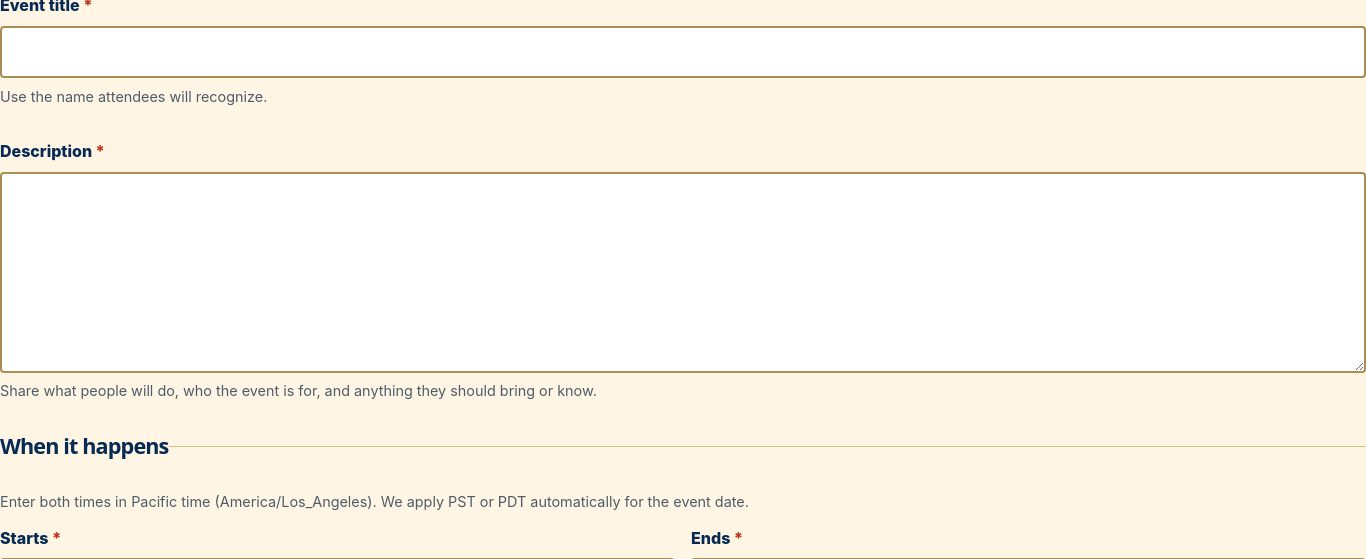
Test: EventForm › submits a one-time event with only the visible event fields
This screenshot has width=1366, height=559.
Type "SacTech Community Demo Night" into the field labelled "Event title *" at (683, 52), box top-left (0, 26), bottom-right (1365, 78)
Type "See project demos from Sacramento developers and meet their creators." into the text box labelled "Description *" at (683, 272), box top-left (0, 172), bottom-right (1365, 372)
(page scrolled)
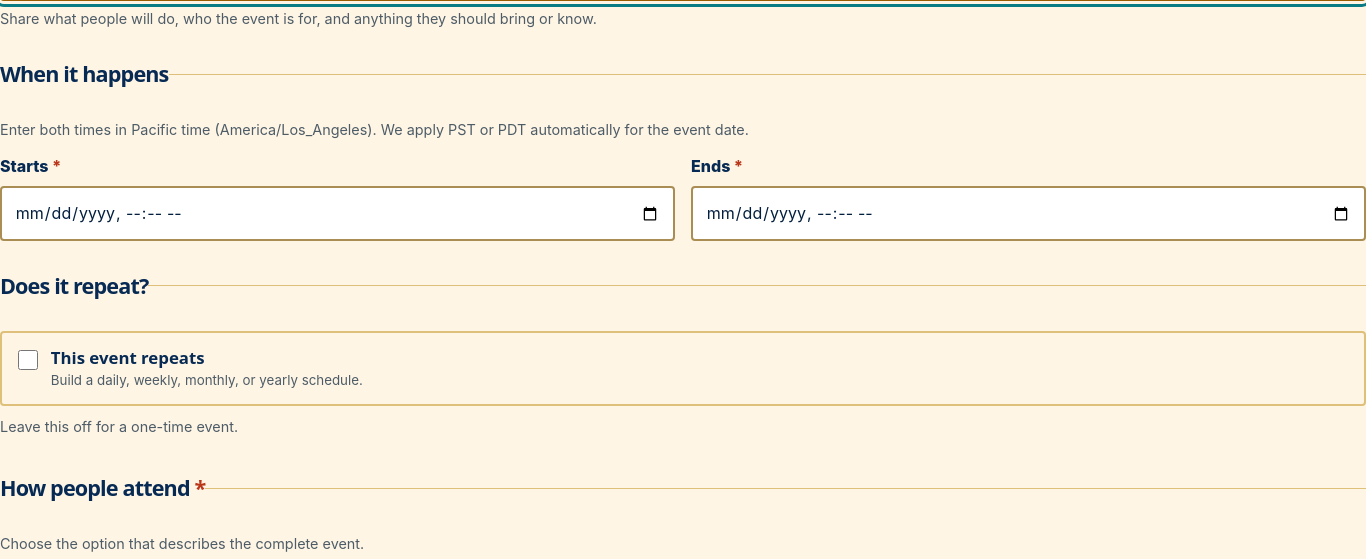
Type "2099-05-19T10:00" into the field labelled "Starts *" at (338, 214), box top-left (0, 186), bottom-right (675, 241)
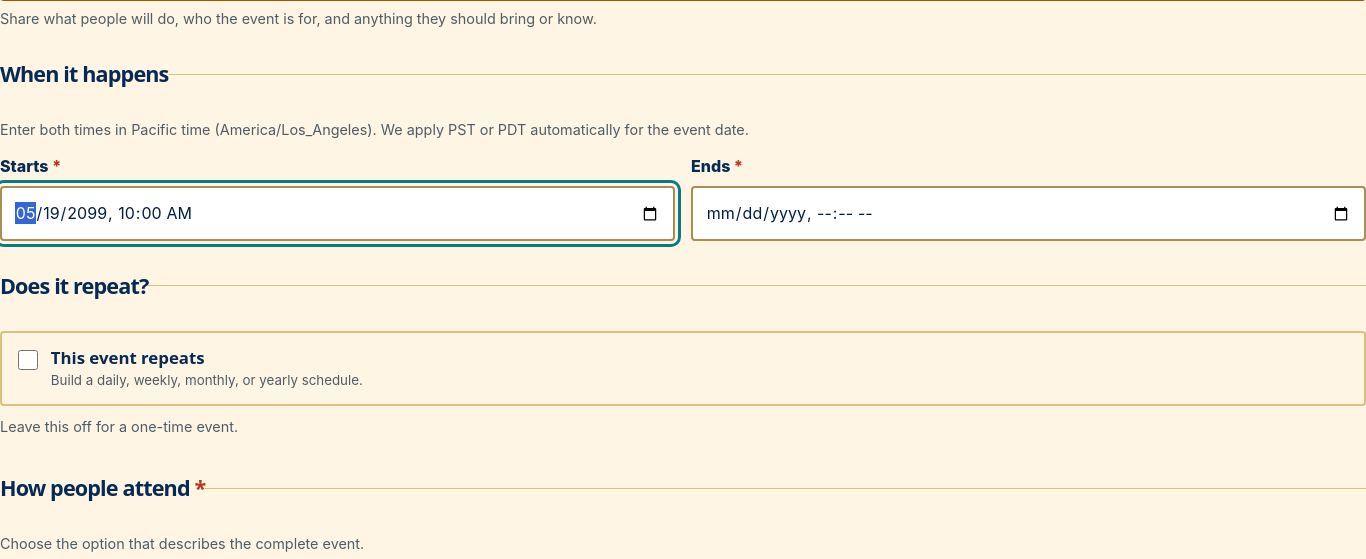
Type "2099-05-19T12:00" into the field labelled "Ends *" at (1028, 214), box top-left (691, 186), bottom-right (1365, 241)
(page scrolled)
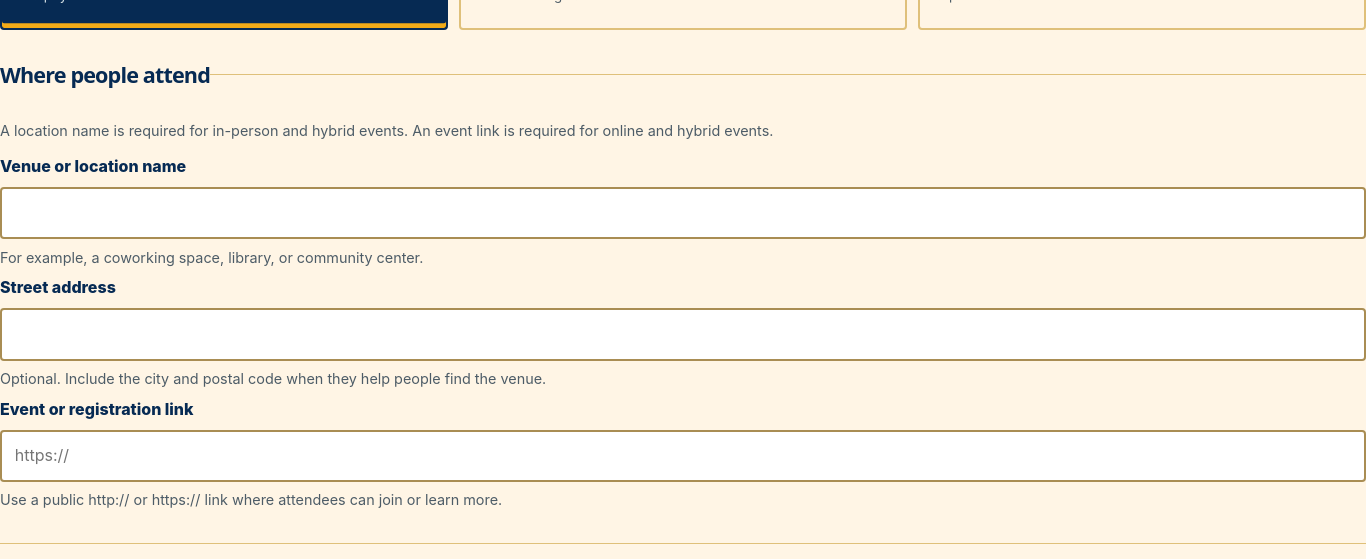
Type "Central Library" into the field labelled "Venue or location name" at (683, 213), box top-left (0, 187), bottom-right (1365, 239)
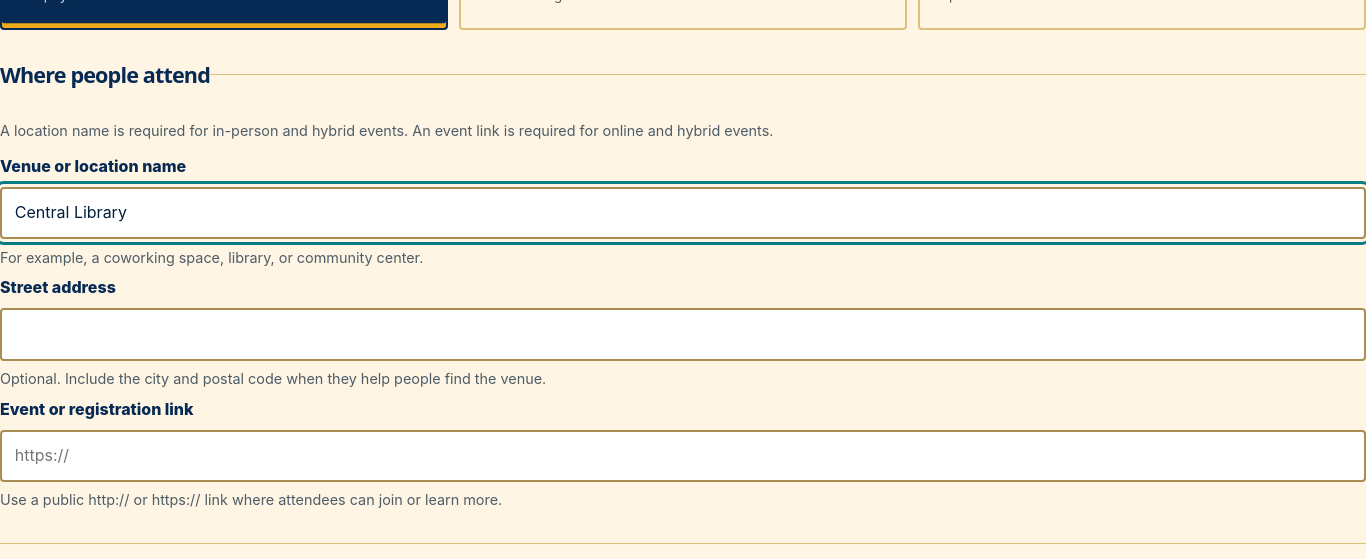
Type "828 I Street, Sacramento, CA" into the field labelled "Street address" at (683, 334), box top-left (0, 308), bottom-right (1365, 361)
(page scrolled)
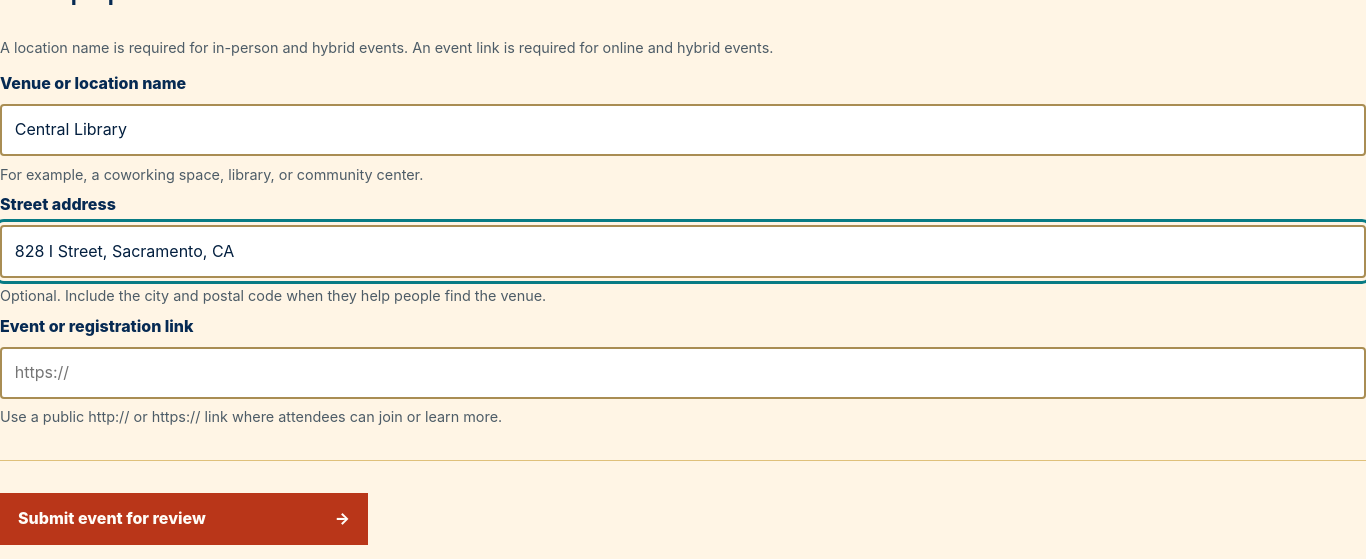
Click the button "Submit event for review →" at (184, 519), box top-left (0, 493), bottom-right (368, 545)
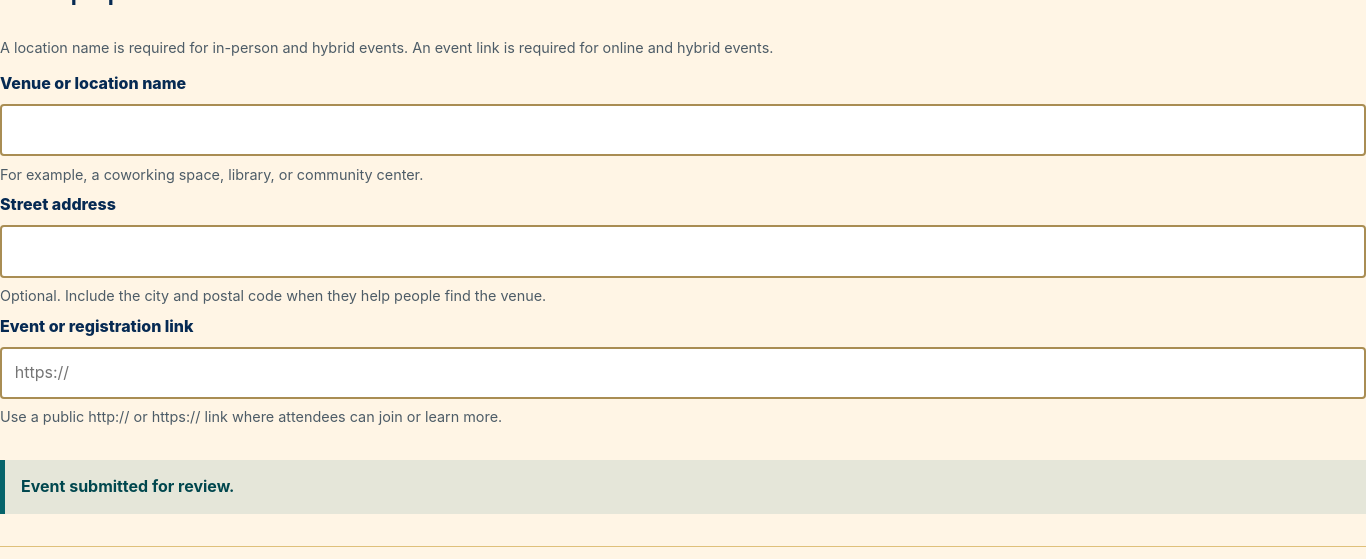
expect the message "Event submitted for review." is shown: met, box top-left (0, 460), bottom-right (1365, 514)
